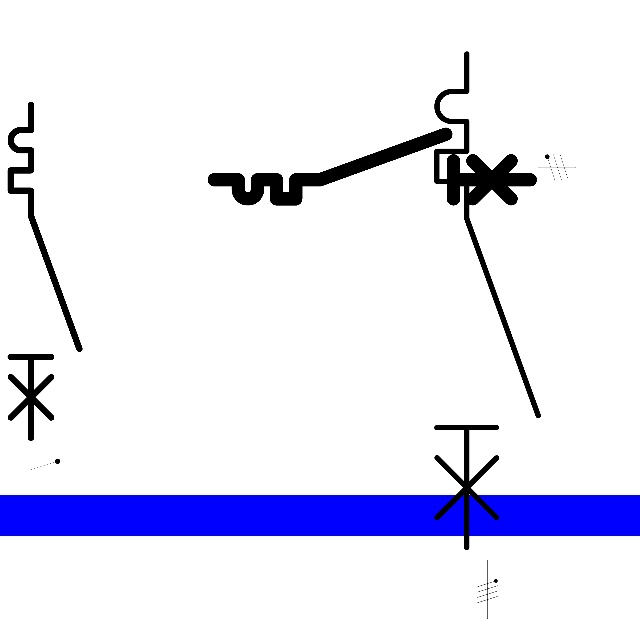interruptor_termomagnetico: (424, 41, 551, 560), (2, 96, 88, 446), (206, 126, 538, 207)
